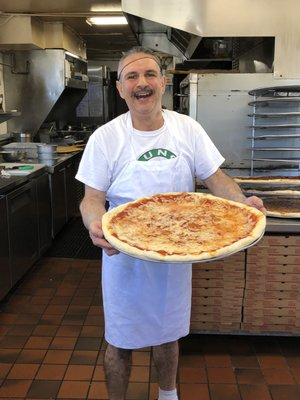burger: (0, 161, 52, 306)
sandwich: (101, 192, 266, 262)
